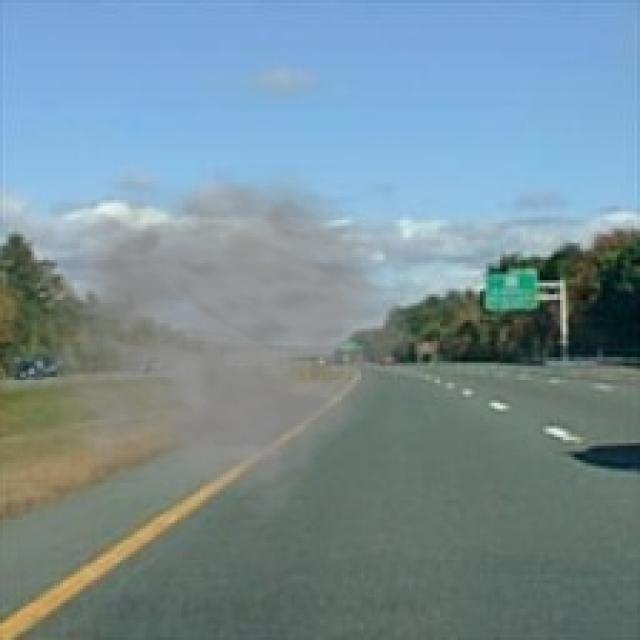smoke: (0, 166, 415, 524)
